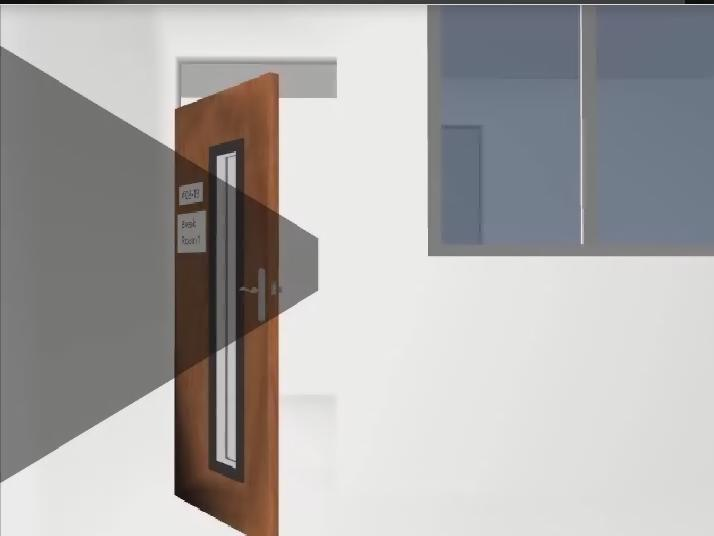door: (174, 72, 278, 536)
